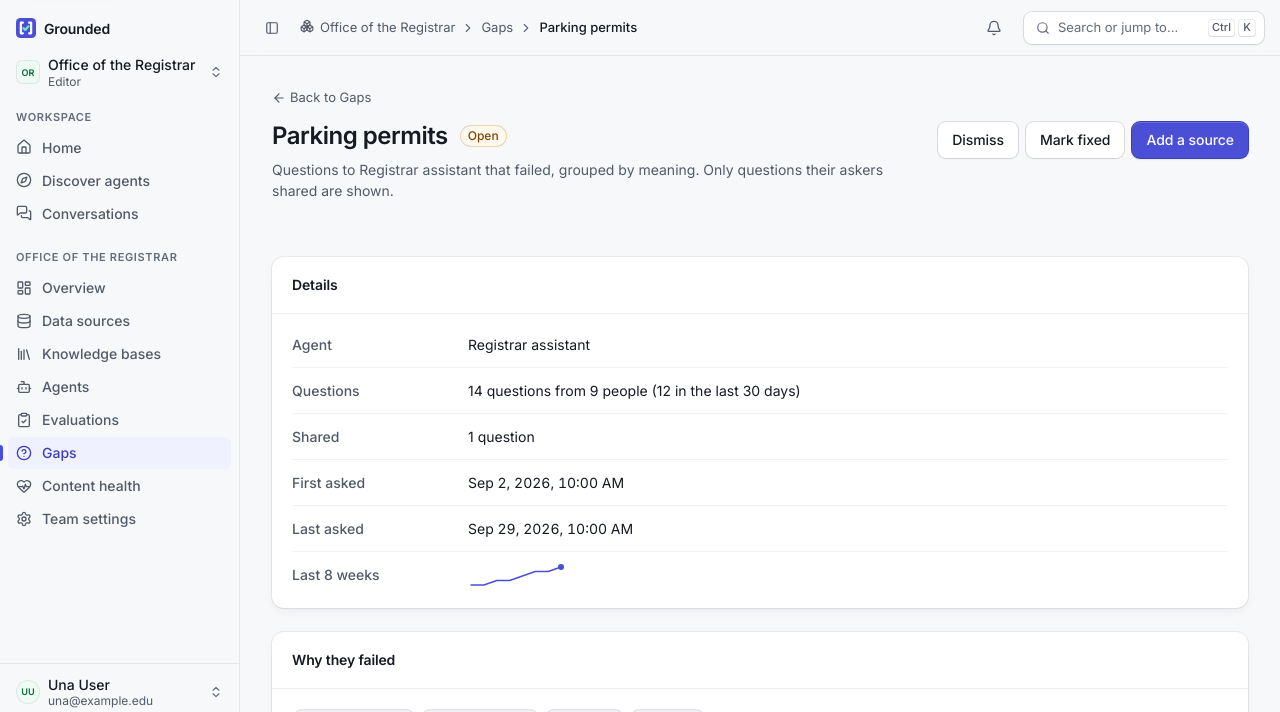
it: the Gaps page › opens a topic with its shared questions; Mark fixed, Dismiss with a reason and Add a source
Expected: the heading "Parking permits" is shown, [272,122,448,151]
Click the button "Mark fixed": x=1075, y=140 [1026,122,1124,158]
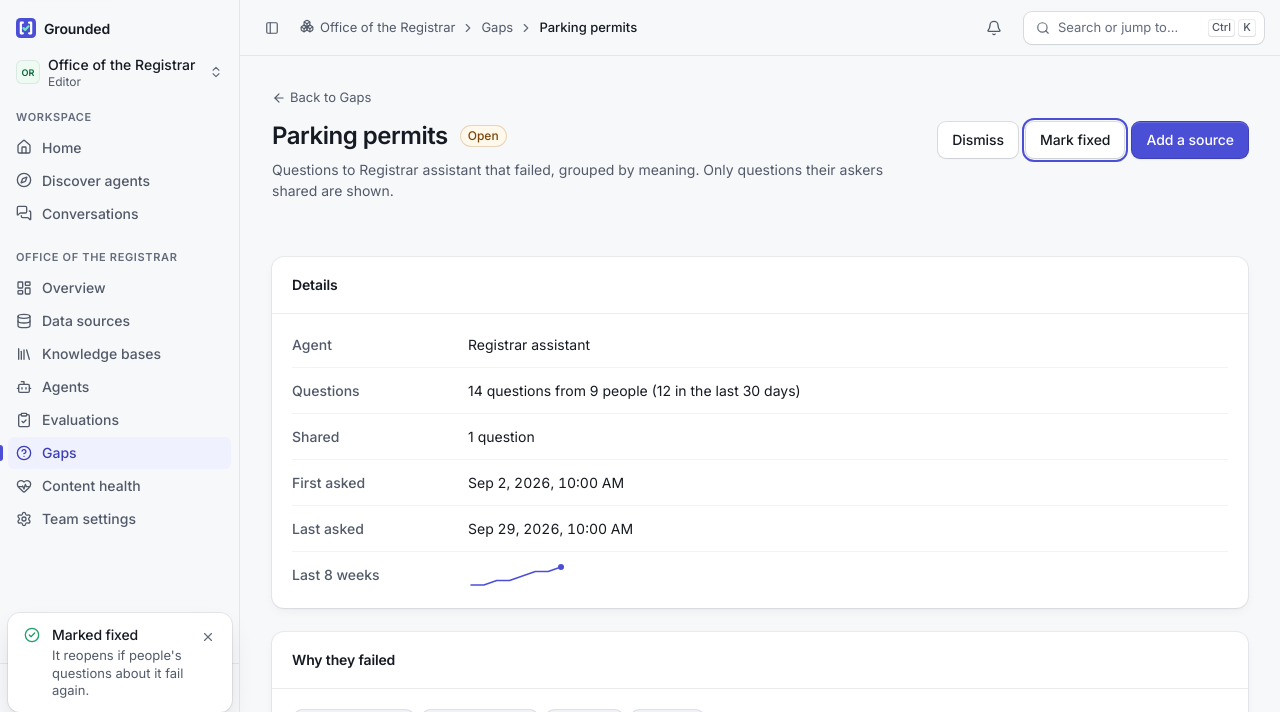
Click the button "Dismiss": x=978, y=140 [938,122,1018,158]
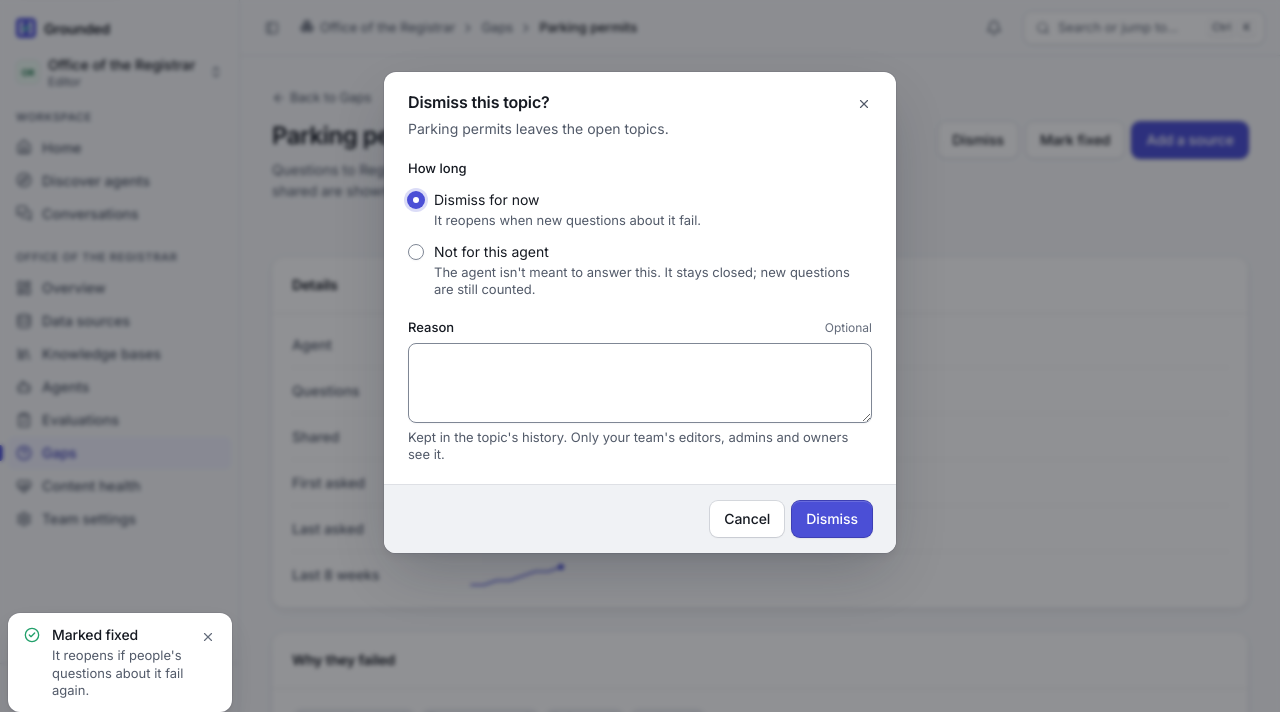
Expected: the radio button named "Dismiss for now" next to "Dismiss for now" is checked, [408,192,424,208]
Click the radio button named "Not for this agent" next to "Not for this agent": x=416, y=252 [408,244,424,260]
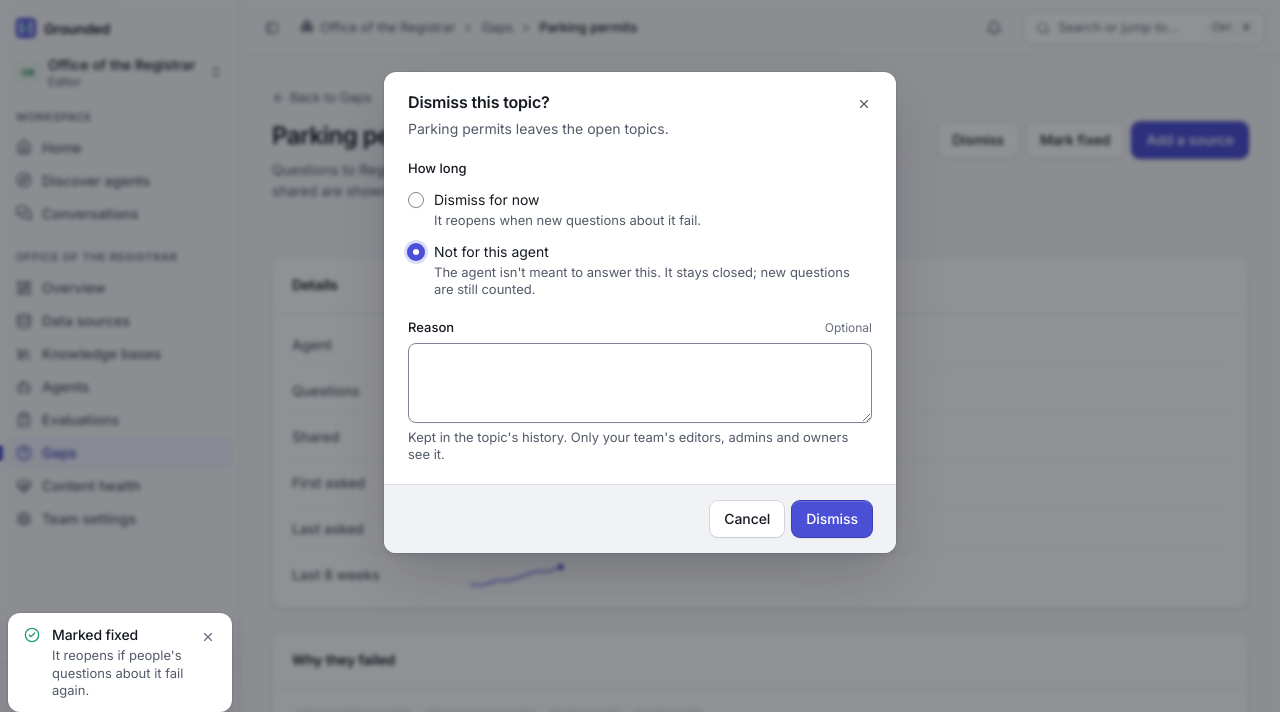
Expected: the text "Kept in the topic's history. Only your team's editors, admins and owners see it." is shown, [408,429,872,464]
In the text box labelled "Reason": x=640, y=383 [408,343,872,423], type "Visitors park free."
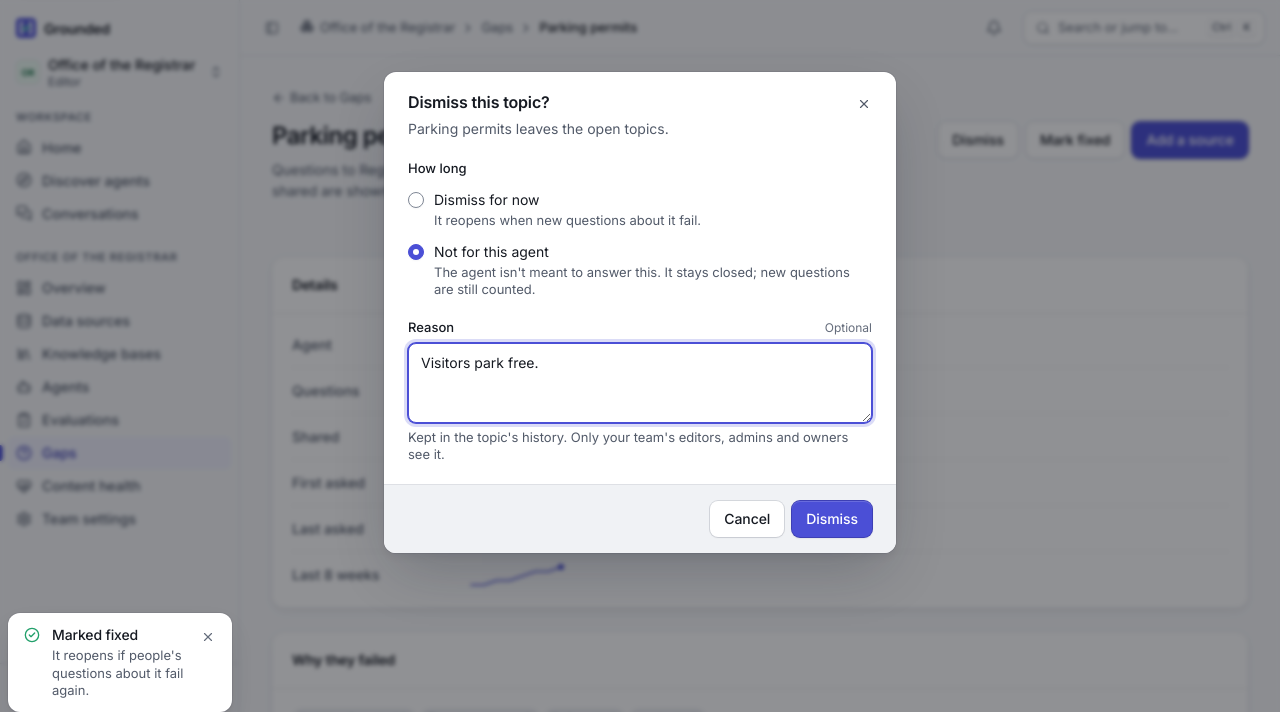
Click the button "Dismiss": x=832, y=519 [792,501,872,537]
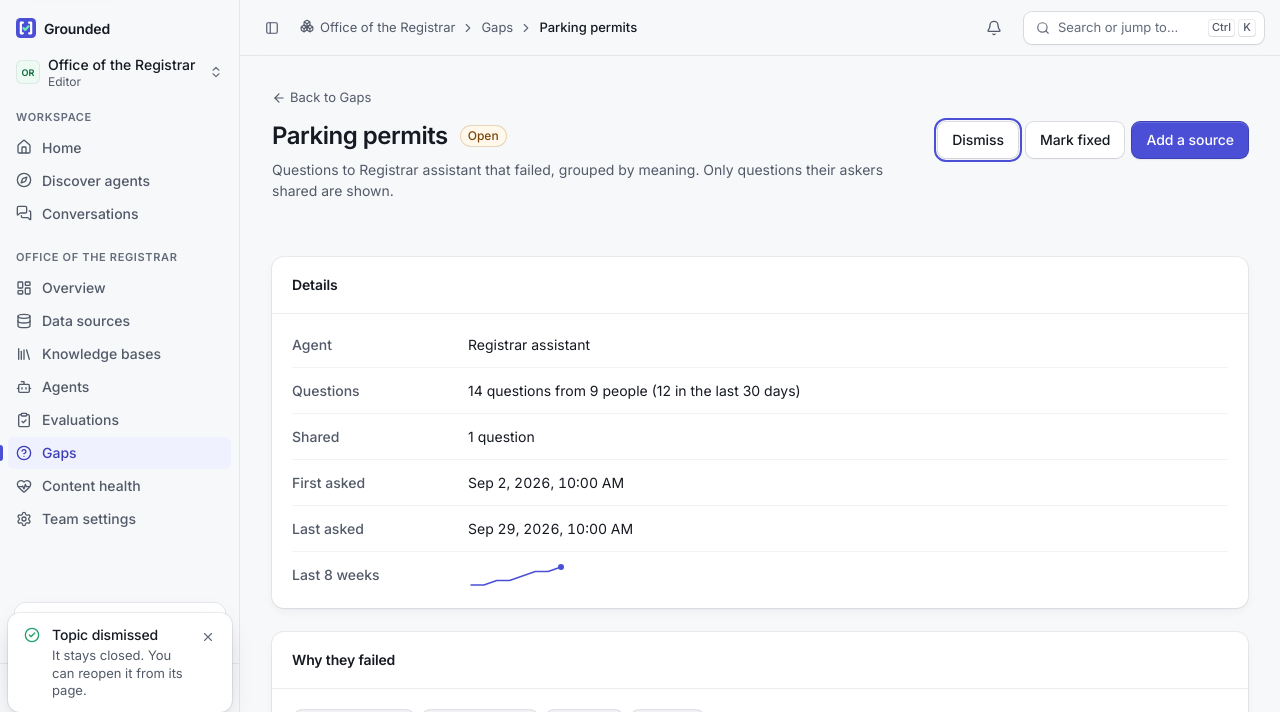
Click the button "Add a source": x=1190, y=140 [1132,122,1248,158]
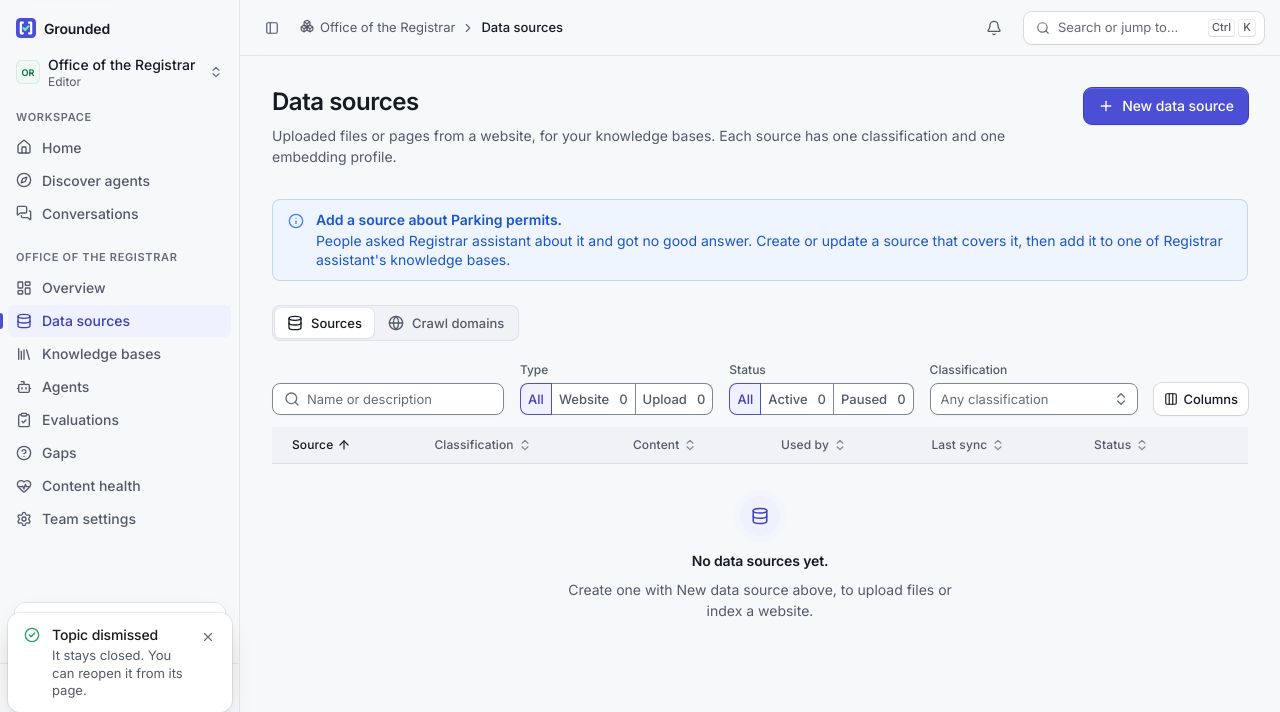
Expected: the text "Add a source about Parking permits." is shown, [316,211,562,228]
